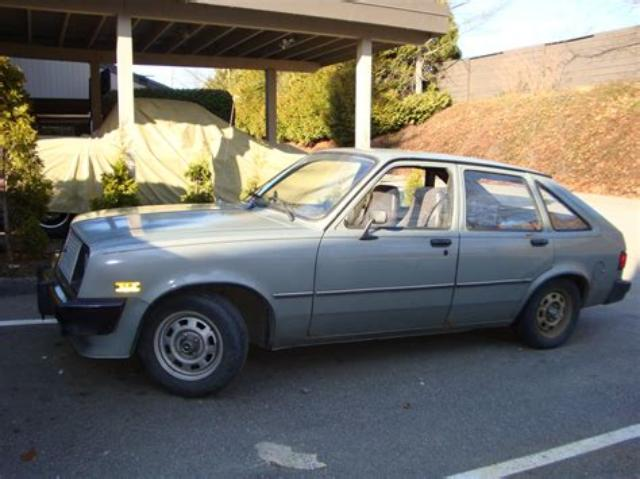chevette-1983: (38, 149, 631, 397)
